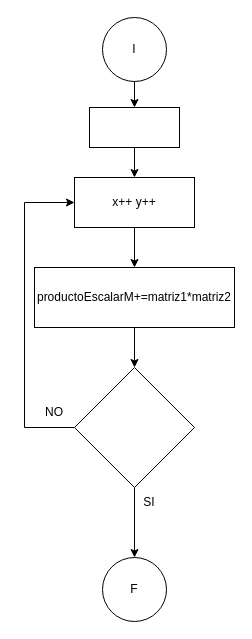
This 252x639 diagram has some shape labels left out. The shapes that lost their labels are listed below. From the top down, each one's centre as x and y in pixels, then its label:
the point at 134,127: x=0 y=0
the point at 134,427: x=longmatriz1 && y=longmatriz1
